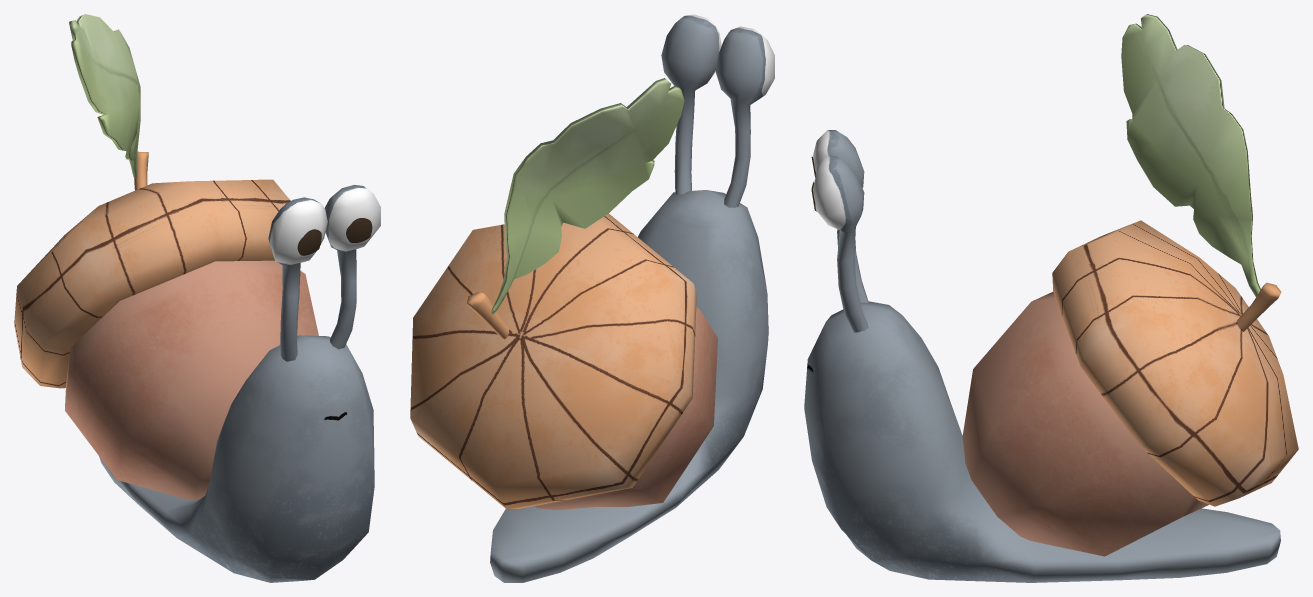
Rendered from Acorn Snail.fbx.
3 views of the same model, side by side, from view 1: azimuth 30°, elevation 25°; view 2: azimuth 150°, elevation 25°; view 3: azimuth 270°, elevation 25° (orthographic). The views are drawn at different scales.
Visible parts, largest first — view 1: Body, Acorn, Acorn_Cap, Leaf, polySurface4, polySurface3, polySurface6, polySurface5; view 2: Acorn_Cap, Body, Leaf, Acorn, polySurface4, polySurface3, Acorn_Knob; view 3: Body, Acorn_Cap, Acorn, Leaf, polySurface3, polySurface4, Acorn_Knob.
Part boxes in pixels (bbox=[...]): Body: bbox=[99, 335, 374, 582]; Acorn: bbox=[65, 260, 318, 500]; Acorn_Cap: bbox=[14, 179, 290, 388]; Leaf: bbox=[69, 14, 140, 178]; polySurface4: bbox=[268, 197, 327, 361]; polySurface3: bbox=[324, 185, 380, 349]; polySurface6: bbox=[346, 218, 372, 242]; polySurface5: bbox=[297, 229, 321, 255]; Acorn_Cap: bbox=[410, 213, 696, 508]; Body: bbox=[490, 190, 768, 582]; Leaf: bbox=[491, 78, 684, 314]; Acorn: bbox=[534, 307, 717, 510]; polySurface4: bbox=[716, 26, 774, 207]; polySurface3: bbox=[661, 14, 721, 195]; Acorn_Knob: bbox=[467, 292, 509, 338]; Body: bbox=[804, 301, 1280, 582]; Acorn_Cap: bbox=[1052, 220, 1298, 506]; Acorn: bbox=[962, 292, 1208, 556]; Leaf: bbox=[1121, 14, 1260, 296]; polySurface3: bbox=[813, 155, 868, 332]; polySurface4: bbox=[813, 130, 868, 303]; Acorn_Knob: bbox=[1236, 282, 1281, 331].
Bounding box in the file's own units: 6.13 × 10.55 × 9.59.
